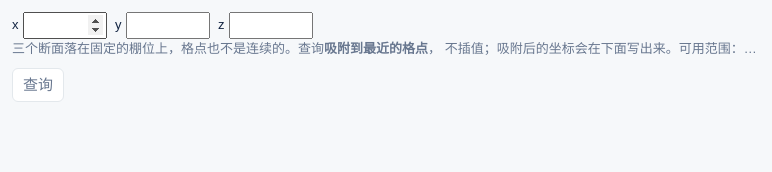
Scenario: SectionAsk › 三格都填了才发得出去
This screenshot has width=772, height=172.
Check: the button "查询" is disabled, box [12,68,64,102]
Type "0.7" into the number field labelled "x". click: [65, 25]
box: [22,12,107,39]
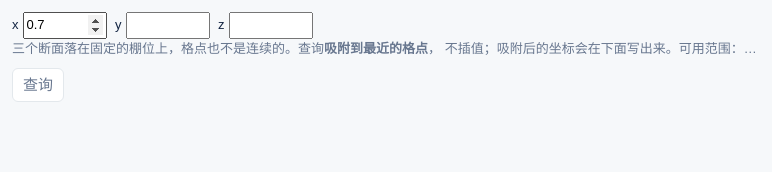
Type "3" into the number field labelled "y". click: [168, 25]
box: [126,12,210,39]
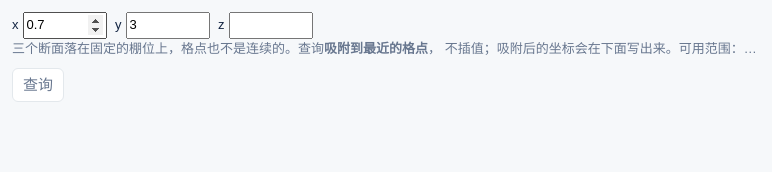
Type "0.7" into the number field labelled "z". click: [271, 25]
box: [228,12,313,39]
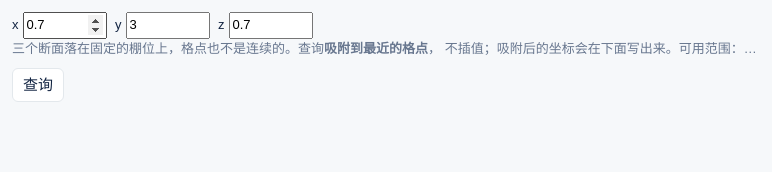
Check: the button "查询" is enabled, box [12,68,64,102]
